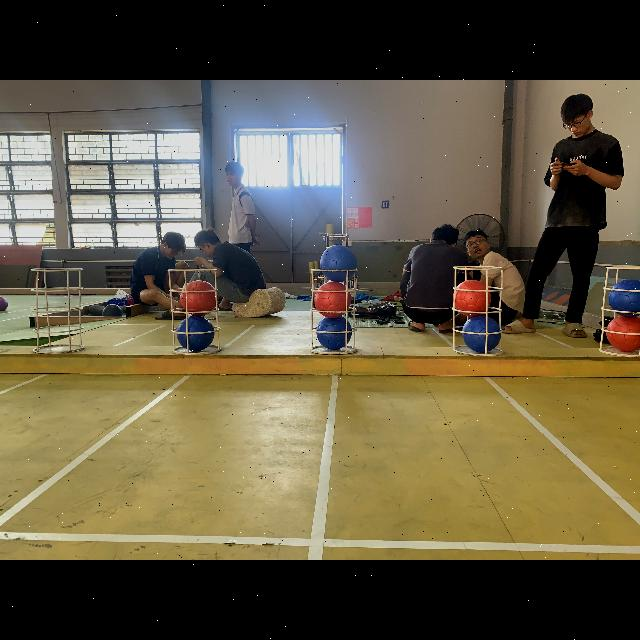B: (462, 317, 502, 353), (320, 245, 358, 281), (178, 316, 215, 352), (316, 316, 352, 350), (608, 280, 640, 316)
R: (452, 278, 491, 316), (314, 281, 351, 317), (181, 280, 217, 316), (606, 316, 640, 352)
